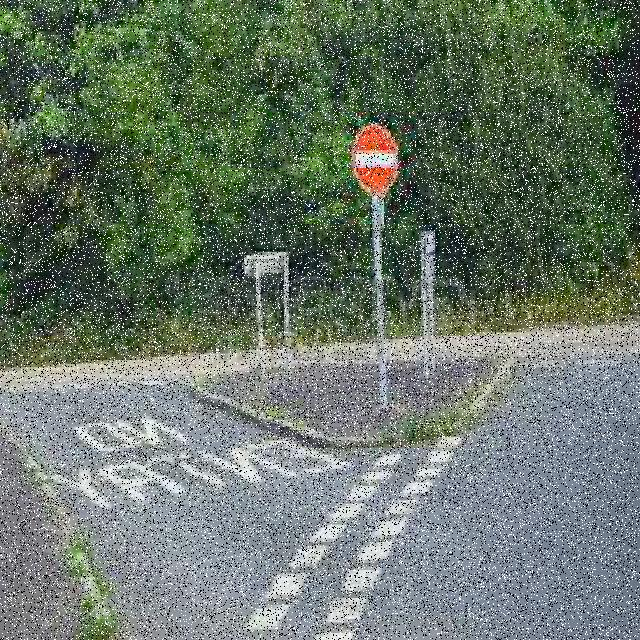no entry: (356, 122, 398, 192)
